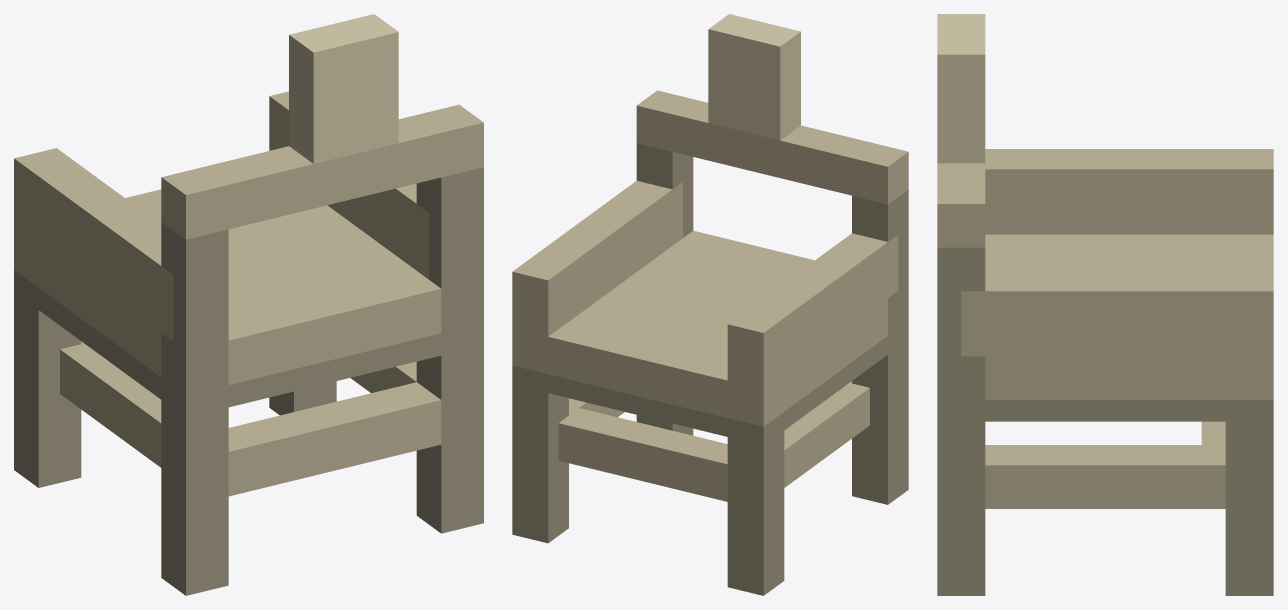
File: trono_sauce_01.glb
3 views of the same model, side by side, from view 1: azimuth 30°, elevation 25°; view 2: azimuth 150°, elevation 25°; view 3: azimuth 270°, elevation 25° (orthographic). The views are drawn at different scales.
Parts seen in each view (by area): view 1: trono_sauce; view 2: trono_sauce; view 3: trono_sauce.
Boxes of the visible parts, bbox=[...] form: trono_sauce: bbox=[14, 14, 483, 595]; trono_sauce: bbox=[512, 14, 908, 595]; trono_sauce: bbox=[937, 14, 1273, 595].
Size of the model in its own units: 1 by 1.64 by 1.
